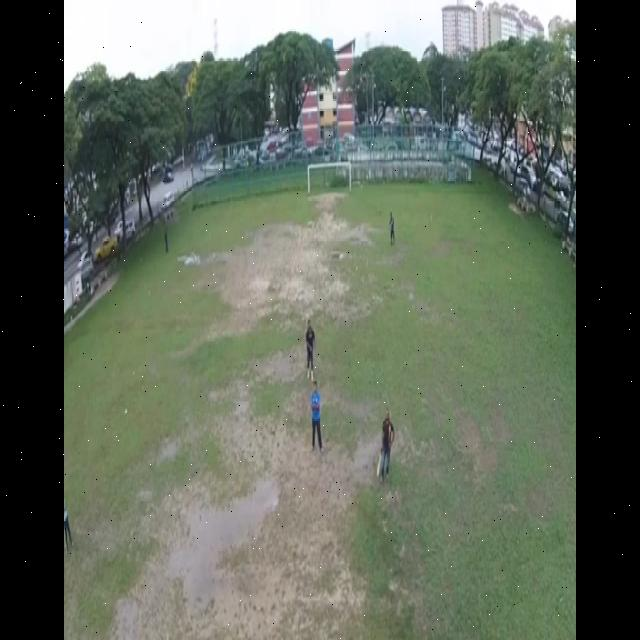humans: (378, 403, 395, 486), (307, 375, 325, 452), (305, 314, 318, 384), (162, 213, 172, 254), (388, 207, 397, 249)
